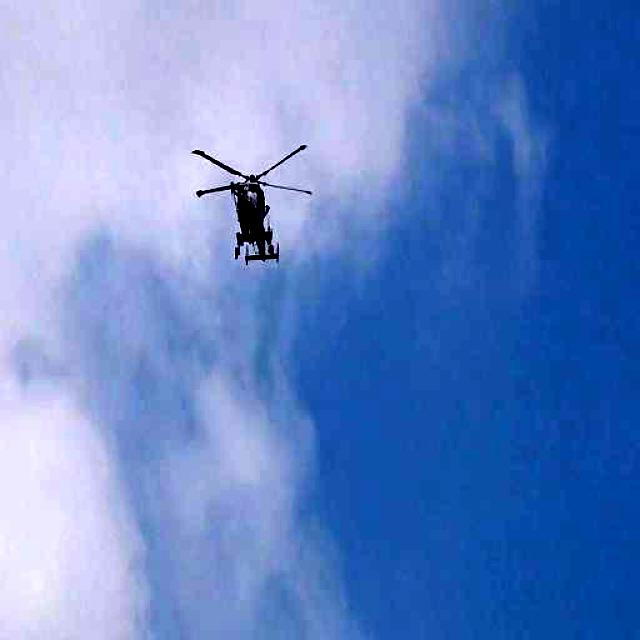drone: (172, 111, 321, 289)
